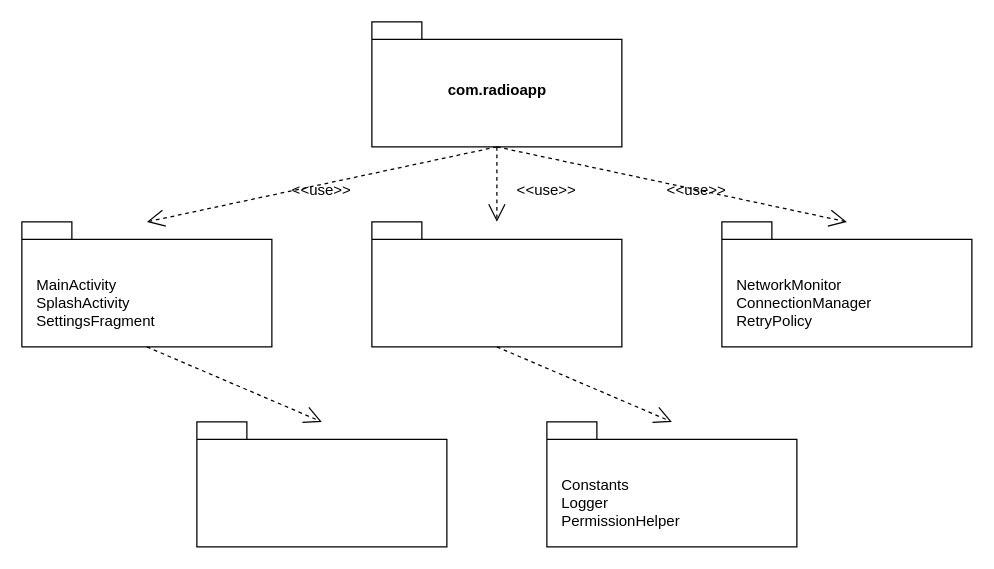
This 994x569 diagram has some shape labels left out. The shapes that lost their labels are listed below. From the top down, each one's centre as x and y in pixels, then its label:
At pixel 496 284: "AudioStreamManager AudioCompressor BufferController".
At pixel 321 484: "DataManager CacheManager PreferencesHelper".
